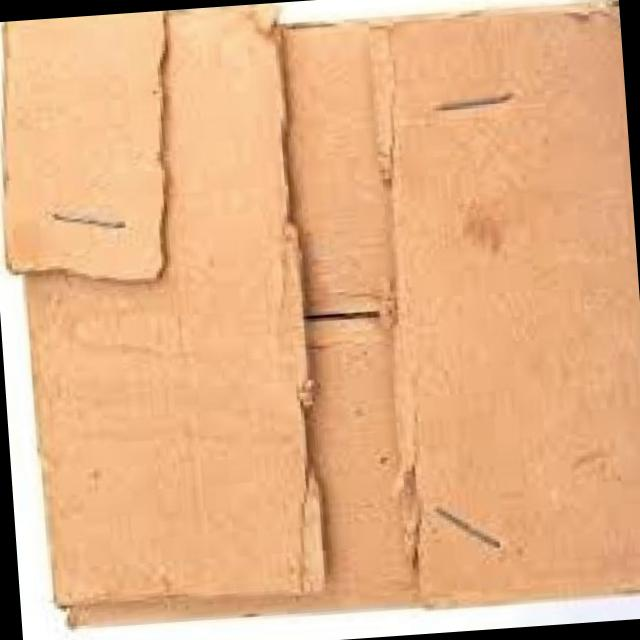cardboard paper: (1, 8, 322, 626), (1, 11, 161, 281)
